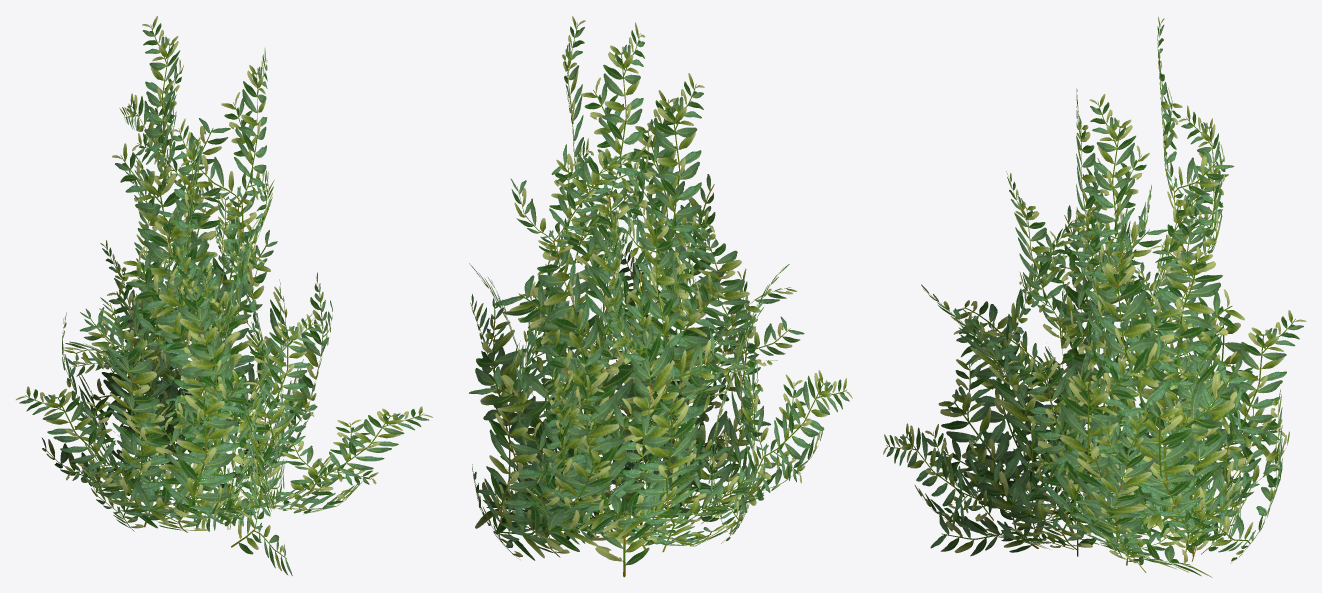
The model's file is SM_bush_02.fbx.
3 views of the same model, side by side, from view 1: azimuth 30°, elevation 25°; view 2: azimuth 150°, elevation 25°; view 3: azimuth 270°, elevation 25° (orthographic). The views are drawn at different scales.
Parts seen in each view (by area): view 1: SM_bush_02_LOD0; view 2: SM_bush_02_LOD0; view 3: SM_bush_02_LOD0.
Boxes of the visible parts, left/top/right/bottom form: SM_bush_02_LOD0: left=16, top=16, right=432, bottom=575; SM_bush_02_LOD0: left=469, top=16, right=852, bottom=577; SM_bush_02_LOD0: left=883, top=16, right=1306, bottom=577.
Bounding box in the file's own units: 99.75 × 106 × 146.
Materials: 1 (1 with a texture image).
